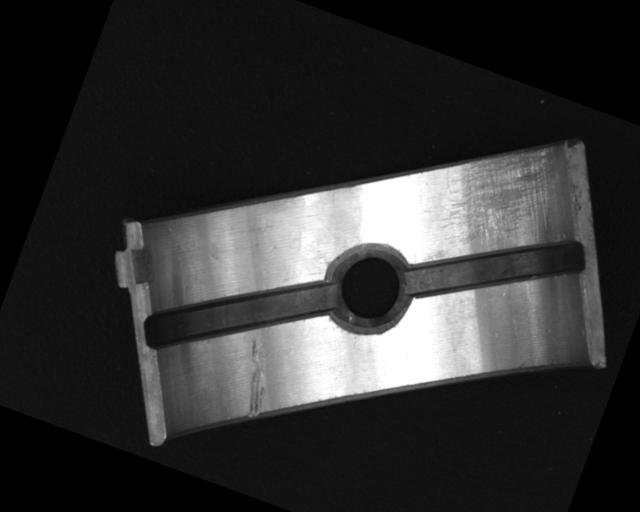gap: (139, 227, 337, 400), (399, 190, 593, 348)
hole: (318, 231, 422, 341)
nick: (224, 336, 286, 422)
scratch: (426, 122, 574, 273)
